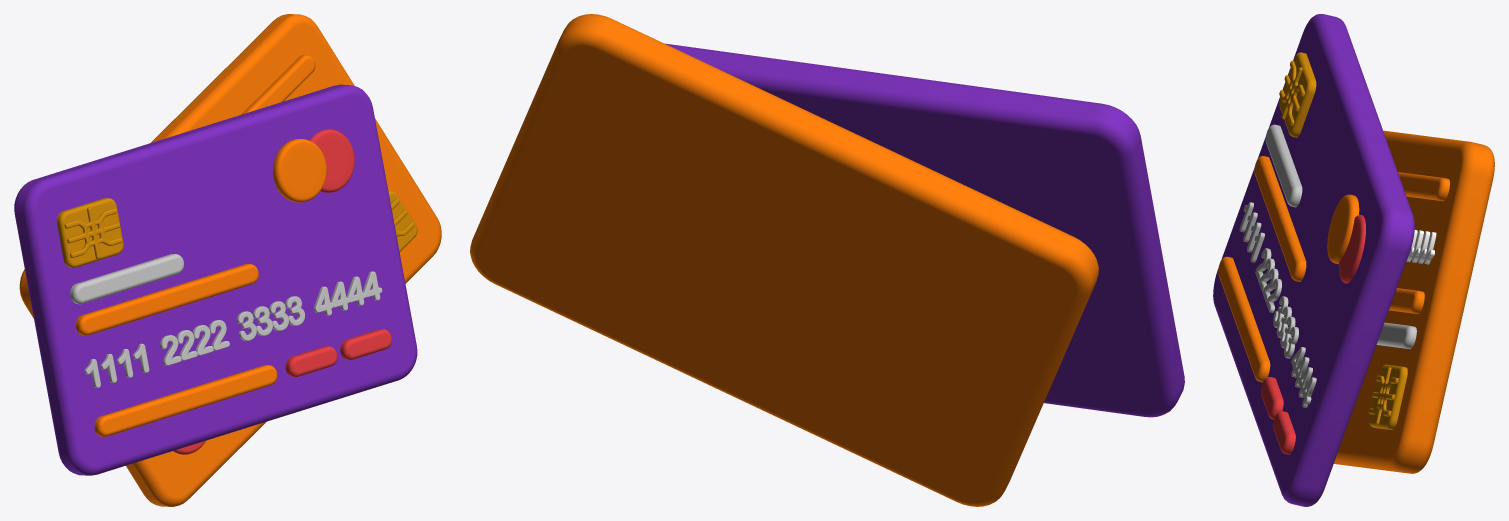
Rendered from card.glb.
The picture shows the model from 3 angles, left to right: view 1: azimuth 30°, elevation 25°; view 2: azimuth 150°, elevation 25°; view 3: azimuth 270°, elevation 25°; orthographic projection. The views are drawn at different scales.
Visible parts, largest first — view 1: Cube.014, Cube.020, Text, Cube.018, Cube.017, Cylinder.013, Cube.015, Cube.016, Cube.019, Cylinder.014, Cube.024, Plane.002 (+1 smaller); view 2: Cube.020, Cube.014; view 3: Cube.014, Cube.020, Text, Cube.017, Cube.018, Cube.016, Cylinder.013, Cube.019, Cube.015, Cube.021, Cube.024, Cylinder.014 (+5 smaller).
Part boxes in pixels (left/top/right/bottom): Cube.014: left=14, top=84, right=417, bottom=475; Cube.020: left=19, top=14, right=441, bottom=506; Text: left=84, top=271, right=382, bottom=387; Cube.018: left=94, top=365, right=277, bottom=436; Cube.017: left=76, top=264, right=258, bottom=335; Cylinder.013: left=273, top=139, right=326, bottom=202; Cube.015: left=56, top=198, right=123, bottom=267; Cube.016: left=70, top=254, right=184, bottom=304; Cube.019: left=285, top=329, right=391, bottom=376; Cylinder.014: left=310, top=129, right=354, bottom=192; Cube.024: left=241, top=55, right=315, bottom=114; Plane.002: left=64, top=207, right=122, bottom=258; Cube.020: left=470, top=14, right=1098, bottom=506; Cube.014: left=665, top=43, right=1184, bottom=417; Cube.014: left=1213, top=14, right=1414, bottom=506; Cube.020: left=1334, top=130, right=1494, bottom=473; Text: left=1239, top=202, right=1316, bottom=407; Cube.017: left=1254, top=156, right=1306, bottom=281; Cube.018: left=1218, top=256, right=1270, bottom=382; Cube.016: left=1265, top=124, right=1302, bottom=207; Cylinder.013: left=1327, top=194, right=1359, bottom=264; Cube.019: left=1261, top=377, right=1295, bottom=454; Cube.015: left=1279, top=52, right=1316, bottom=137; Cube.021: left=1369, top=364, right=1407, bottom=430; Cube.024: left=1398, top=172, right=1449, bottom=201; Cylinder.014: left=1339, top=215, right=1365, bottom=283.
Bounding box in the file's own units: 5.67 × 4.47 × 2.71.
